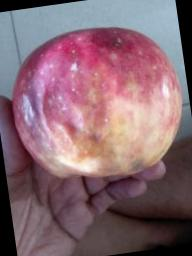Apple Overripe: (0, 10, 192, 192)
